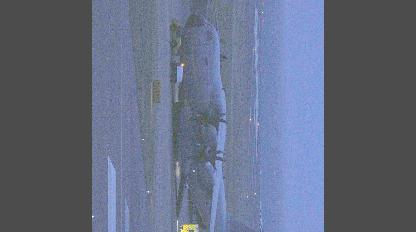A400M: (172, 2, 288, 231)
